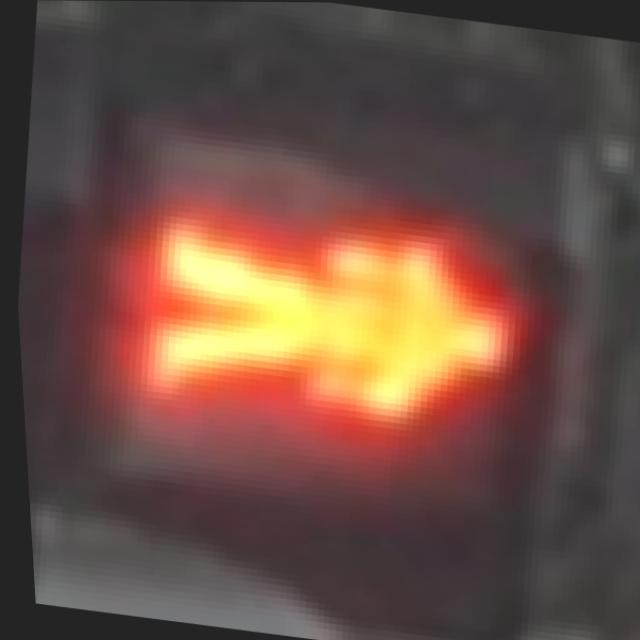red_light: (94, 171, 562, 490)
